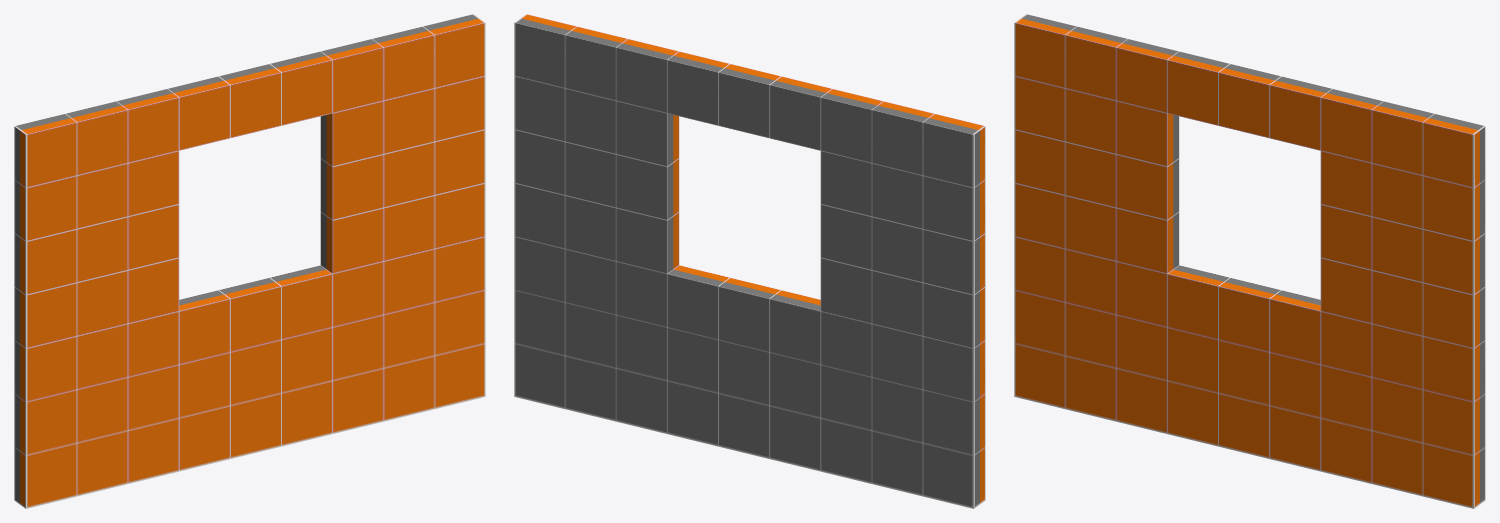
File: M01WallWindowTypeC_1.FBX
The picture shows the model from 3 angles, left to right: view 1: azimuth 30°, elevation 25°; view 2: azimuth 150°, elevation 25°; view 3: azimuth 330°, elevation 25°; orthographic projection.
Visible parts, largest first — view 1: M01WallWindowTypeC_1; view 2: M01WallWindowTypeC_1; view 3: M01WallWindowTypeC_1.
Part boxes in pixels (x1,y1,x2,y2): M01WallWindowTypeC_1: [14, 14, 485, 508]; M01WallWindowTypeC_1: [514, 14, 985, 508]; M01WallWindowTypeC_1: [1014, 14, 1485, 508].
Size of what is drawn, in the model's own units: 4.5 by 3.5 by 0.2.
